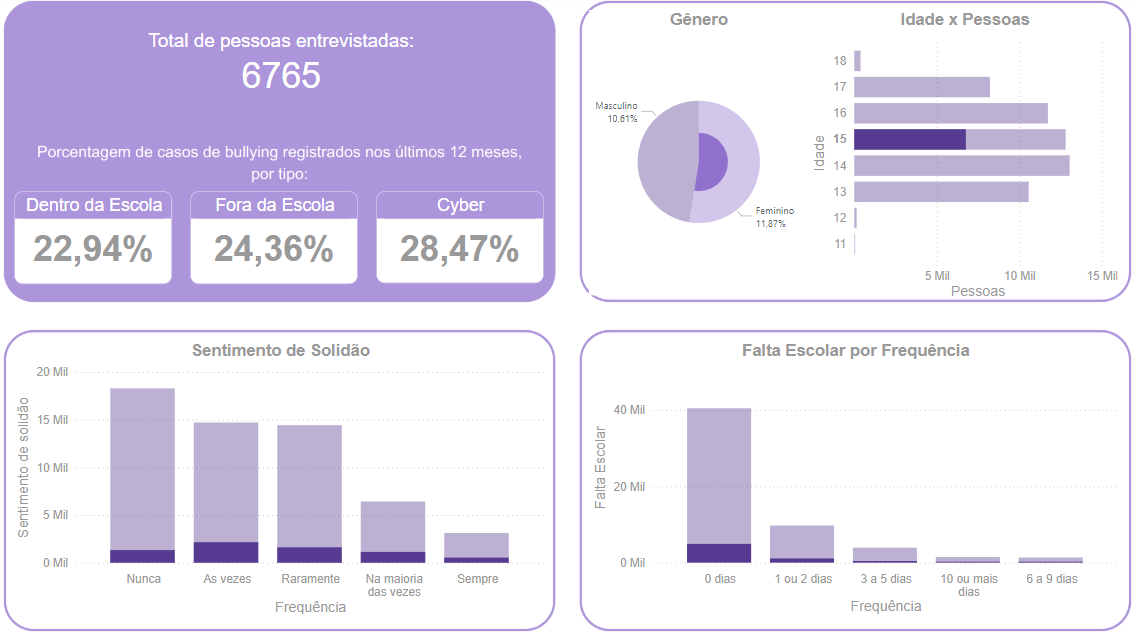

What the dashboard file says about the page in this screenshot:
{"tool":"powerbi","page":{"name":"Página 1","canvas":[1280,720],"ordinal":0},"visuals":[{"type":"card","title":"Total de pessoas entrevistadas:","fields":{"Values":["_Medidas.TotalPessoas"]},"box":[92,38.7,450.3,73.8],"z":0},{"type":"card","title":"Cyber","fields":{"Values":["_Medidas.B_Cyber"]},"box":[424.3,219.6,188.8,104.1],"z":1000},{"type":"pieChart","title":"Gênero","fields":{"Category":["d_informacoes.Sex"],"Y":["CountNonNull(d_informacoes.Sex)"]},"box":[663.4,15.7,246.9,320.8],"z":2000},{"type":"card","title":"Dentro da Escola","fields":{"Values":["_Medidas.B_Escola"]},"box":[16.7,219.1,178.5,104.6],"z":3000},{"type":"barChart","title":"Idade x Pessoas","fields":{"Category":["d_informacoes.Idade"],"Y":["_Medidas.TotalPessoas"]},"box":[910.3,15.7,353.5,329.3],"z":4000},{"type":"group","id":"g1","title":"Grupo 1","box":[14.5,388.6,604,312.3],"z":5000},{"type":"card","title":"Fora da Escola","fields":{"Values":["_Medidas.B_Fora"]},"box":[215.1,219.1,189.2,104.6],"z":6000},{"type":"clusteredColumnChart","title":"Sentimento de Solidão","fields":{"Category":["d_amizades.Sente_solitario"],"Y":["CountNonNull(d_amizades.Sente_solitario)"]},"box":[14.5,388.6,604,312.4],"z":6001,"group":"g1"},{"type":"clusteredColumnChart","fields":{"Category":["d_escola.Falta_escola_Sem_permissao"],"Y":["CountNonNull(d_escola.Falta_escola_Sem_permissao)"]},"box":[663.4,388.6,600.4,312.3],"z":7000}]}

Visuals, with their boxes in screenshot pixels (x1, y1, x2, y2), scaled from the page's 1280x720 canvas onto the 1136x636 screenshot:
"Total de pessoas entrevistadas:" card: 82, 34, 481, 99
"Cyber" card: 377, 194, 544, 286
"Gênero" pieChart: 589, 14, 808, 297
"Dentro da Escola" card: 15, 194, 173, 286
"Idade x Pessoas" barChart: 808, 14, 1122, 305
"Grupo 1" group: 13, 343, 549, 619
"Fora da Escola" card: 191, 194, 359, 286
"Sentimento de Solidão" clusteredColumnChart: 13, 343, 549, 619
clusteredColumnChart - d_escola.Falta_escola_Sem_permissao x CountNonNull(d_escola.Falta_escola_Sem_permissao): 589, 343, 1122, 619
